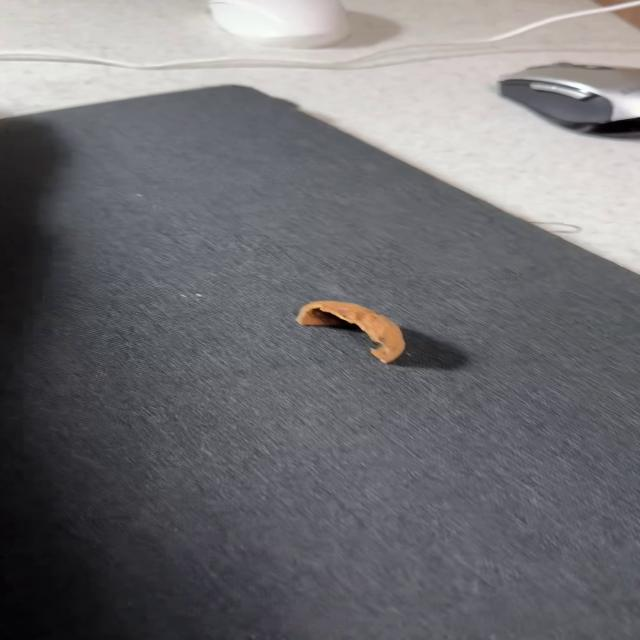nuts-bad0.25: (297, 301, 405, 363)
